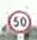limite 50: (6, 9, 32, 33)
